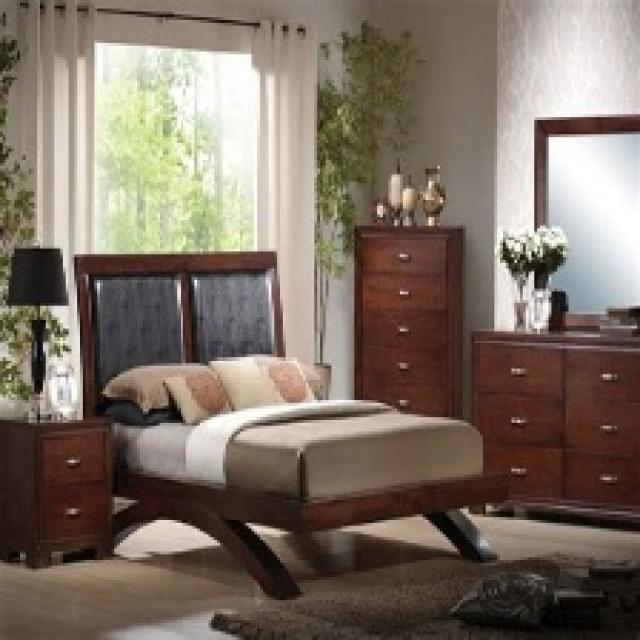Bed: (71, 249, 508, 597)
